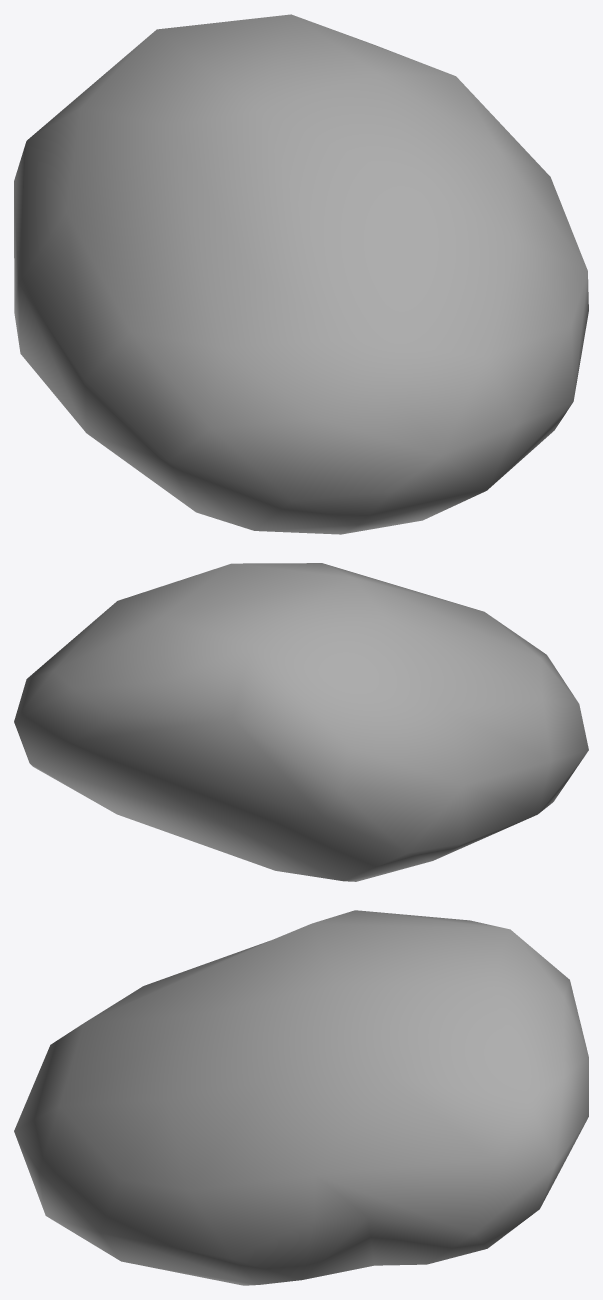
The model's file is SoftRock_13.fbx.
3 renders of one model, top to bottom at view 1: azimuth 30°, elevation 25°; view 2: azimuth 150°, elevation 25°; view 3: azimuth 270°, elevation 25°, orthographic. The views are drawn at different scales.
Parts seen in each view (by area): view 1: SoftRock_13; view 2: SoftRock_13; view 3: SoftRock_13.
Boxes of the visible parts, <box> form: SoftRock_13: <box>14,14,588,534</box>; SoftRock_13: <box>14,563,588,881</box>; SoftRock_13: <box>14,910,588,1285</box>.
Size of the model in its own units: 95.38 by 59.44 by 104.
